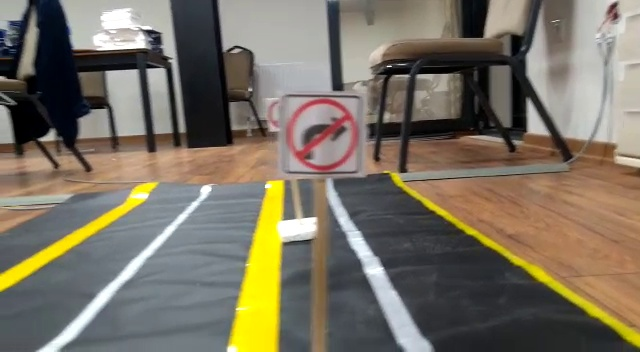saga_donulmez: (279, 94, 363, 177)
